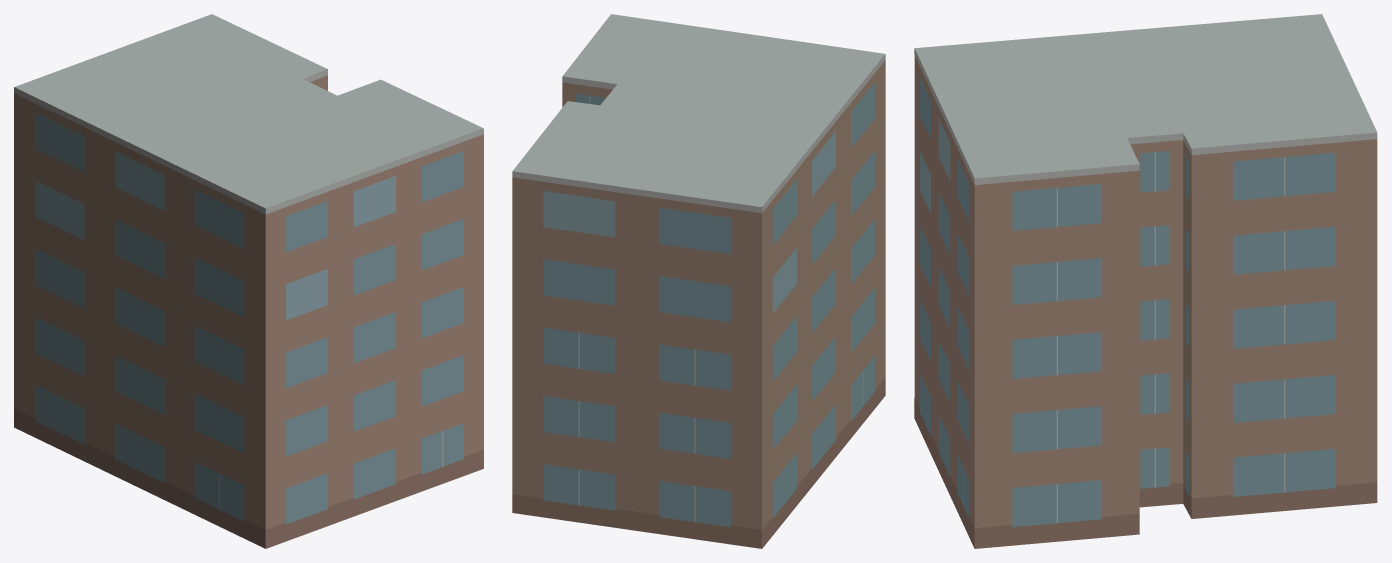
Rendered from survey-upis-32798692.glb.
3 renders of one model, left to right at view 1: azimuth 30°, elevation 25°; view 2: azimuth 150°, elevation 25°; view 3: azimuth 270°, elevation 25°, orthographic. The views are drawn at different scales.
Visible parts, largest first — view 1: survey-upis-32798692.tmp; view 2: survey-upis-32798692.tmp; view 3: survey-upis-32798692.tmp.
Boxes of the visible parts, left/top/right/bottom form: survey-upis-32798692.tmp: left=14, top=14, right=483, bottom=548; survey-upis-32798692.tmp: left=512, top=14, right=885, bottom=548; survey-upis-32798692.tmp: left=914, top=14, right=1377, bottom=548.
Size of the model in its own units: 13.17 by 13.8 by 15.65.
